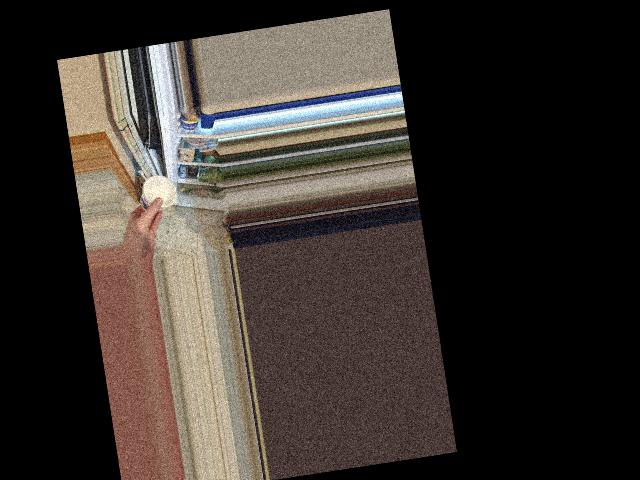cotage: (133, 170, 179, 215)
